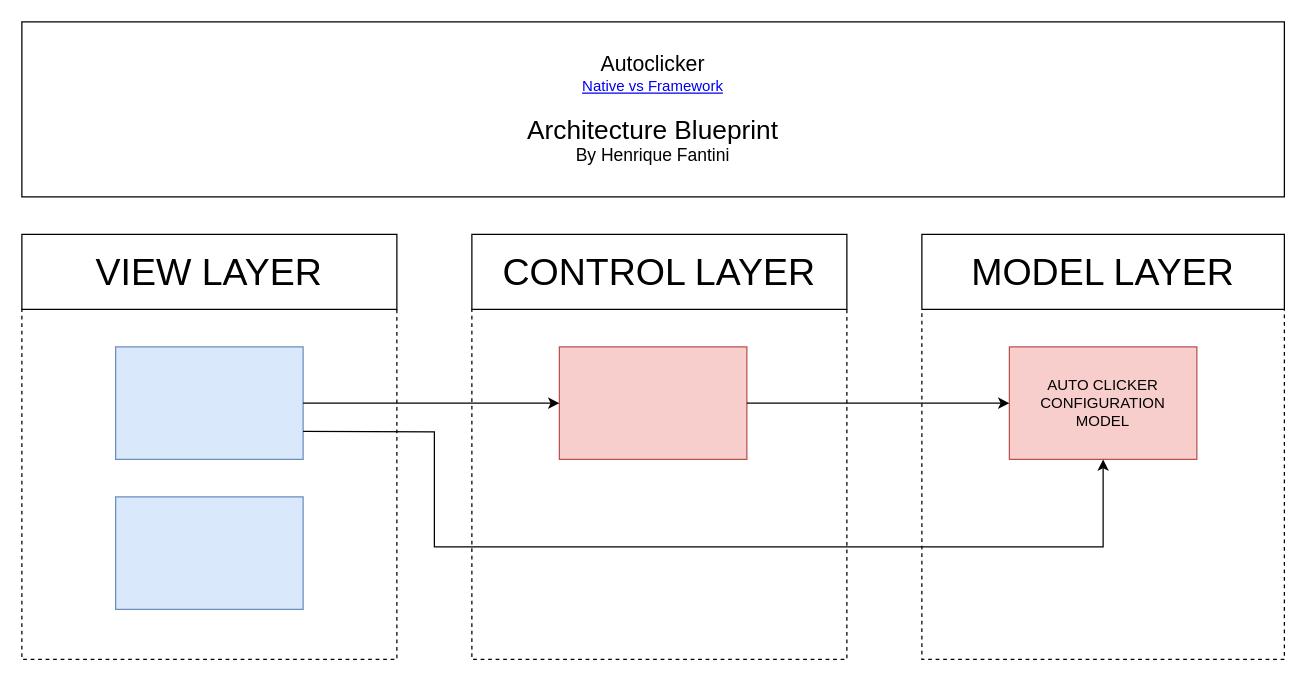
The diagram is 1306 pixels wide and 681 high, and some of its shapes have lost their labels. Each missing label, with the box of its shape:
ABOUT WINDOW: (114, 496, 303, 609)
AUTO CLICKER CONTROLLER: (558, 346, 747, 459)
MAIN WINDOW: (114, 346, 303, 459)
